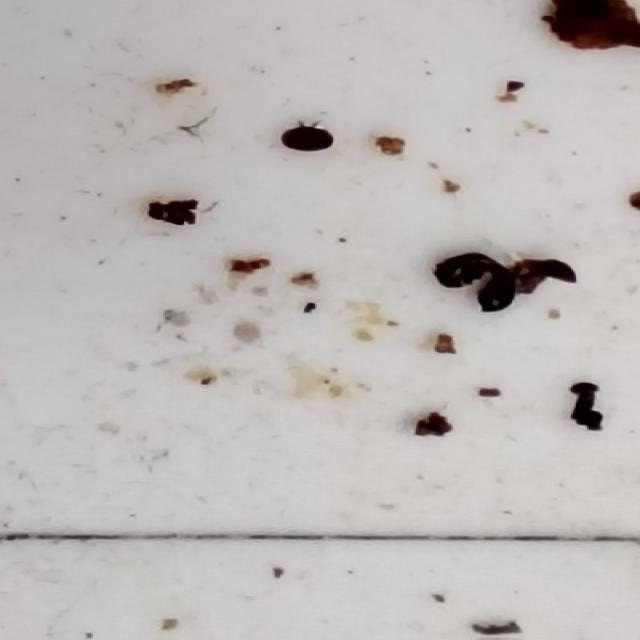varroa: (427, 252, 490, 286), (477, 270, 517, 319), (279, 125, 337, 155)
